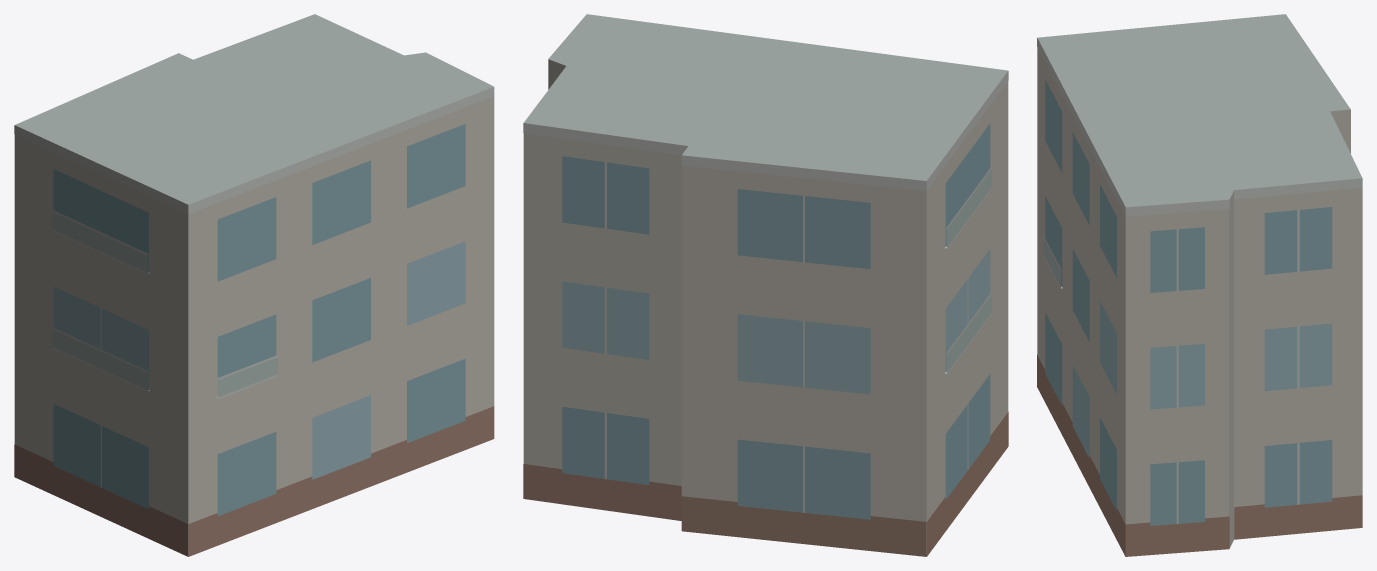
Rendered from survey-upis-32624106.glb.
3 renders of one model, left to right at view 1: azimuth 30°, elevation 25°; view 2: azimuth 150°, elevation 25°; view 3: azimuth 270°, elevation 25°, orthographic. The views are drawn at different scales.
Parts seen in each view (by area): view 1: survey-upis-32624106.tmp; view 2: survey-upis-32624106.tmp; view 3: survey-upis-32624106.tmp.
Boxes of the visible parts, bbox=[...] form: survey-upis-32624106.tmp: bbox=[14, 14, 494, 556]; survey-upis-32624106.tmp: bbox=[523, 14, 1008, 556]; survey-upis-32624106.tmp: bbox=[1037, 14, 1362, 556].
Size of the model in its own units: 10.86 by 9.15 by 7.73.
